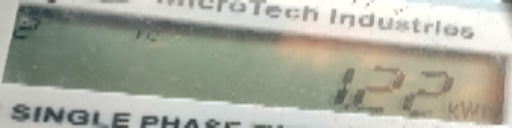1: (328, 60, 353, 103)
2: (402, 61, 454, 118), (356, 61, 401, 118)
d: (344, 102, 352, 109)
